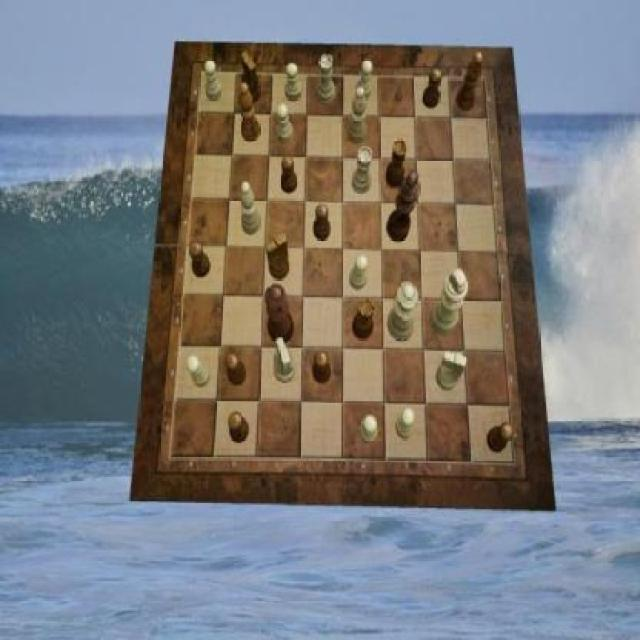bishop: (456, 52, 482, 112), (238, 83, 261, 143)
black-bishop: (388, 171, 420, 243)
black-king: (266, 234, 290, 280), (242, 52, 262, 105)
black-knight: (189, 242, 212, 278), (423, 68, 443, 108), (488, 422, 514, 452), (280, 155, 298, 193), (226, 354, 246, 388), (228, 412, 248, 445), (314, 203, 331, 241), (314, 350, 331, 384)
black-pawn: (264, 284, 294, 344)
black-queen: (386, 140, 409, 189), (352, 298, 376, 340)
black-rook: (348, 86, 368, 144), (240, 182, 261, 236)
white-bishop: (431, 270, 468, 336)
white-king: (437, 351, 468, 391), (274, 337, 297, 382)
white-knight: (188, 357, 212, 389), (206, 60, 223, 102), (357, 60, 374, 102), (277, 104, 294, 144), (286, 63, 303, 102), (351, 255, 368, 290), (396, 408, 414, 440), (358, 417, 378, 445)
white-pawn: (388, 283, 420, 343)
white-queen: (352, 146, 372, 194), (317, 54, 336, 104)
